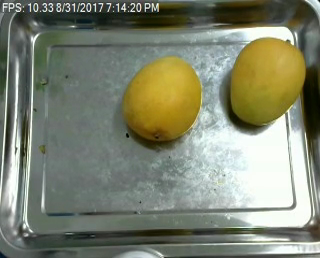Mango: (223, 32, 308, 132), (121, 55, 205, 143)
